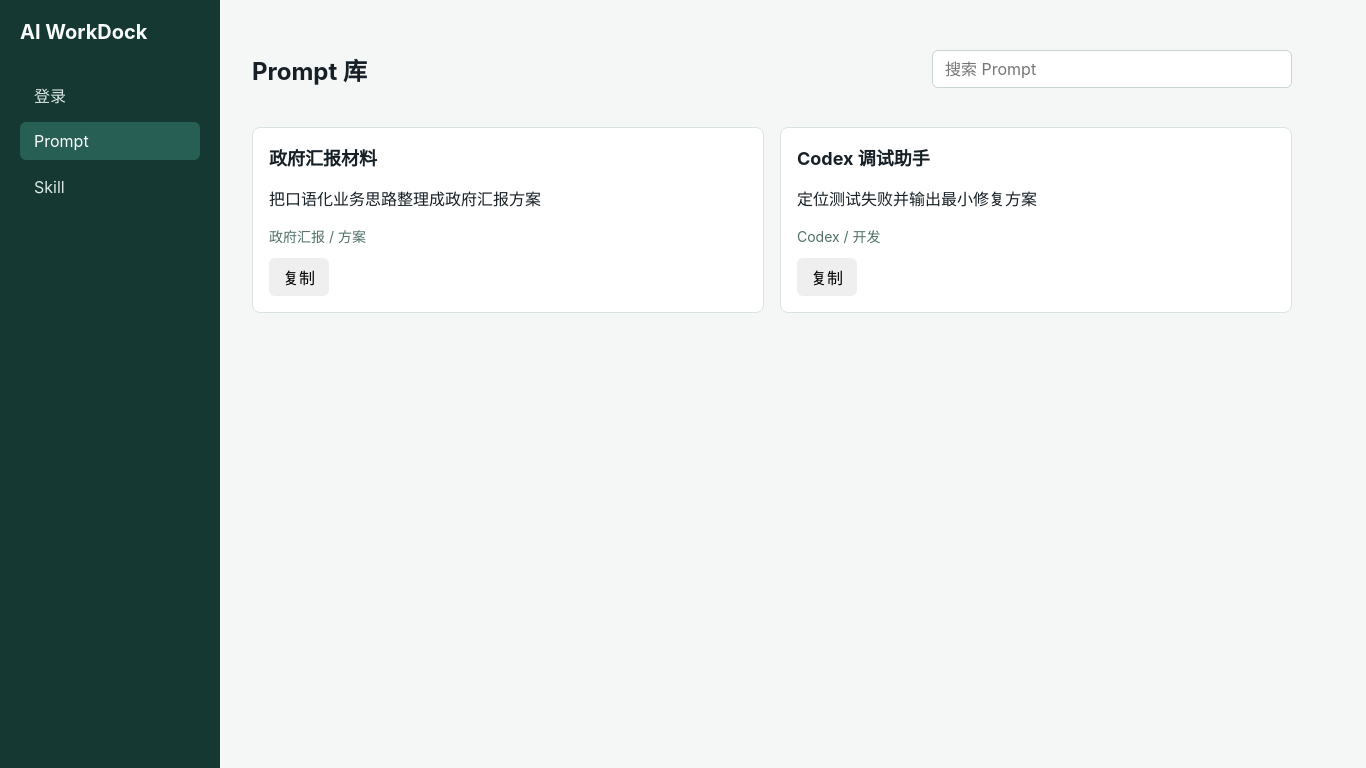
AI WorkDock admin web › renders and filters prompts
Expected: the heading "政府汇报材料" is shown, [269,148,377,169]
In the field with placeholder "搜索 Prompt": point(1112, 69) [932,50,1292,88], type "Codex"
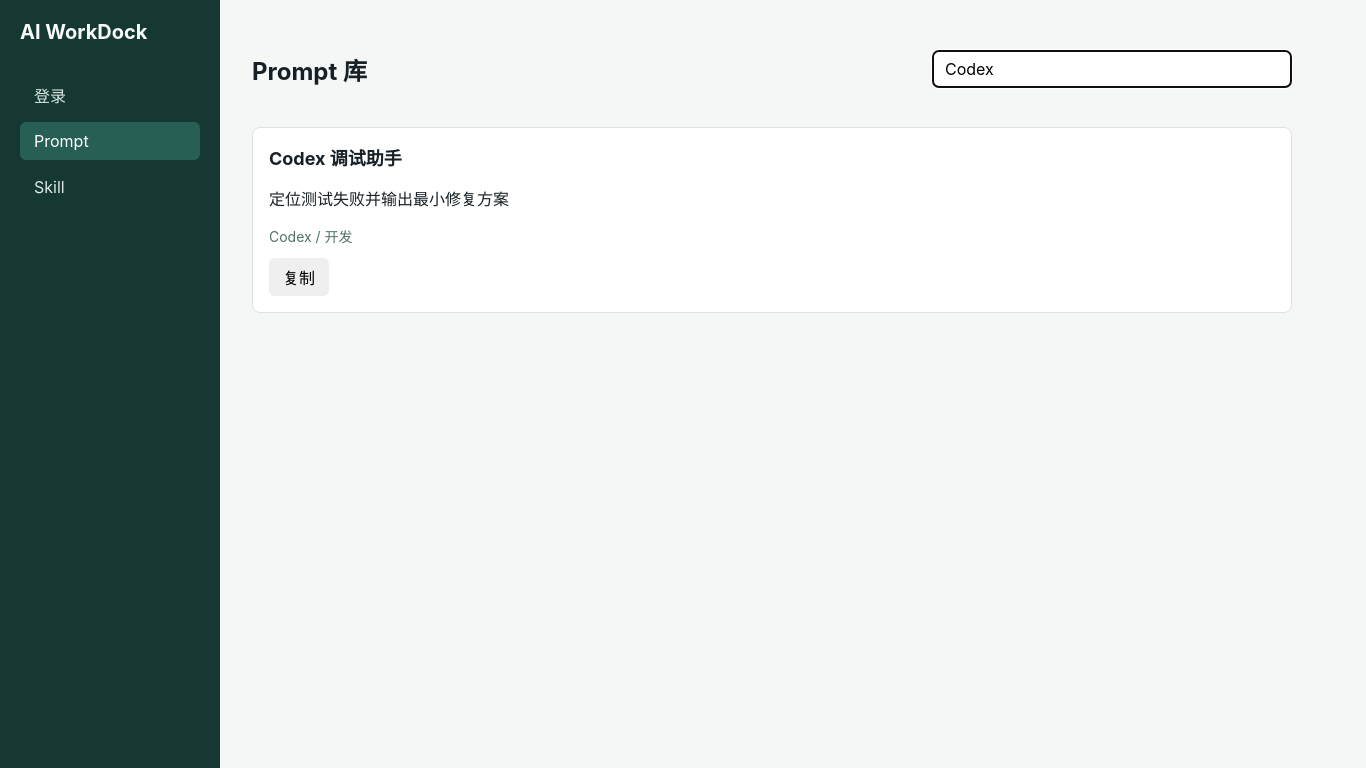
Expected: the heading "Codex 调试助手" is shown, [269,148,402,169]
Result: the heading "政府汇报材料" is gone
